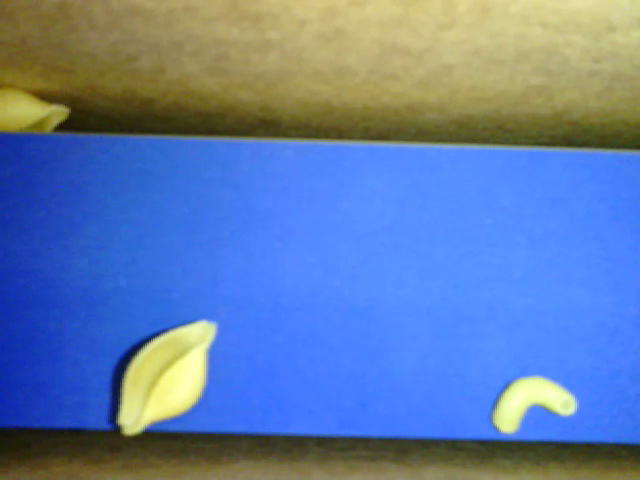elbow: (488, 375, 580, 437)
shell: (115, 317, 221, 438), (1, 84, 71, 136)
